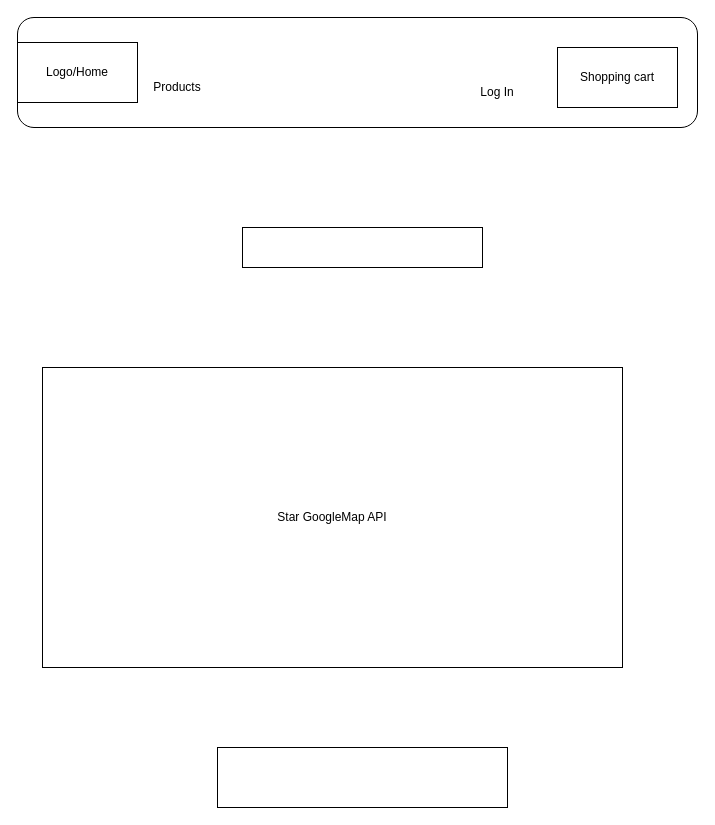
Image size: 715x825. Some labels were removed from this diagram. Each missing label, with the centre of its shape:
Register Your Star: (362,777)
Search The Register: (362,247)
